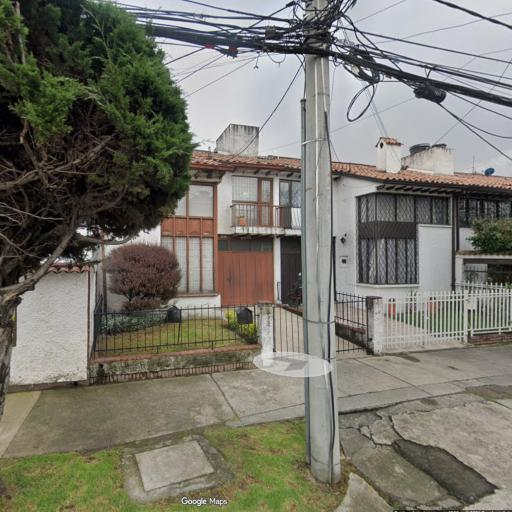Casa: (91, 123, 302, 387), (333, 135, 512, 360)
postes: (287, 0, 349, 487)
